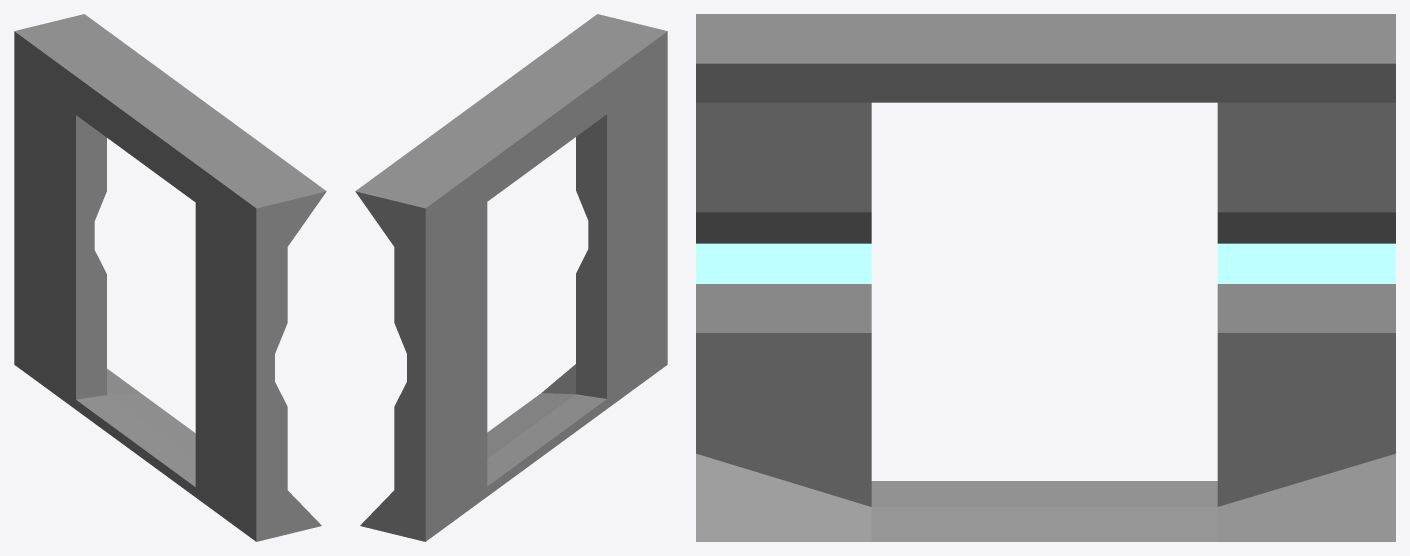
The model's file is SciFiWallPanelDoor1.fbx.
3 renders of one model, left to right at view 1: azimuth 30°, elevation 25°; view 2: azimuth 150°, elevation 25°; view 3: azimuth 270°, elevation 25°, orthographic. The views are drawn at different scales.
Visible parts, largest first — view 1: SciFiWallPanel; view 2: SciFiWallPanel; view 3: SciFiWallPanel.
Part boxes in pixels (x1,y1,x2,y2): SciFiWallPanel: (14,14,326,541); SciFiWallPanel: (355,14,667,541); SciFiWallPanel: (696,14,1395,541).
Bounding box in the file's own units: 121 × 550 × 725.
